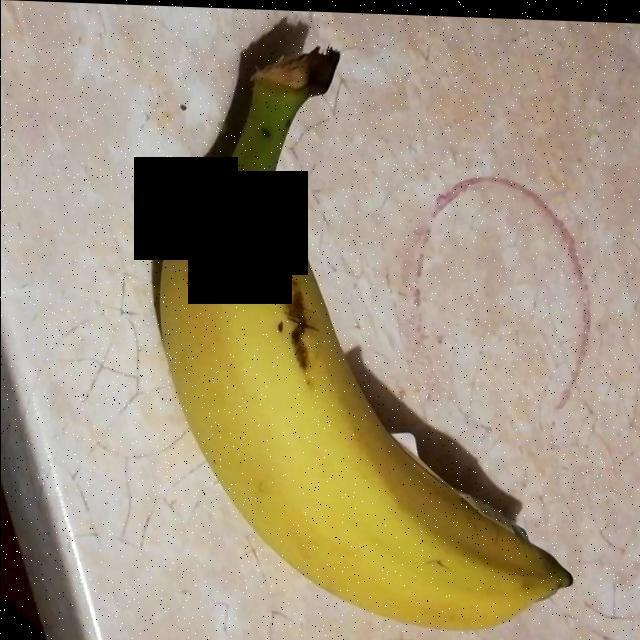banana: (178, 66, 554, 614)
